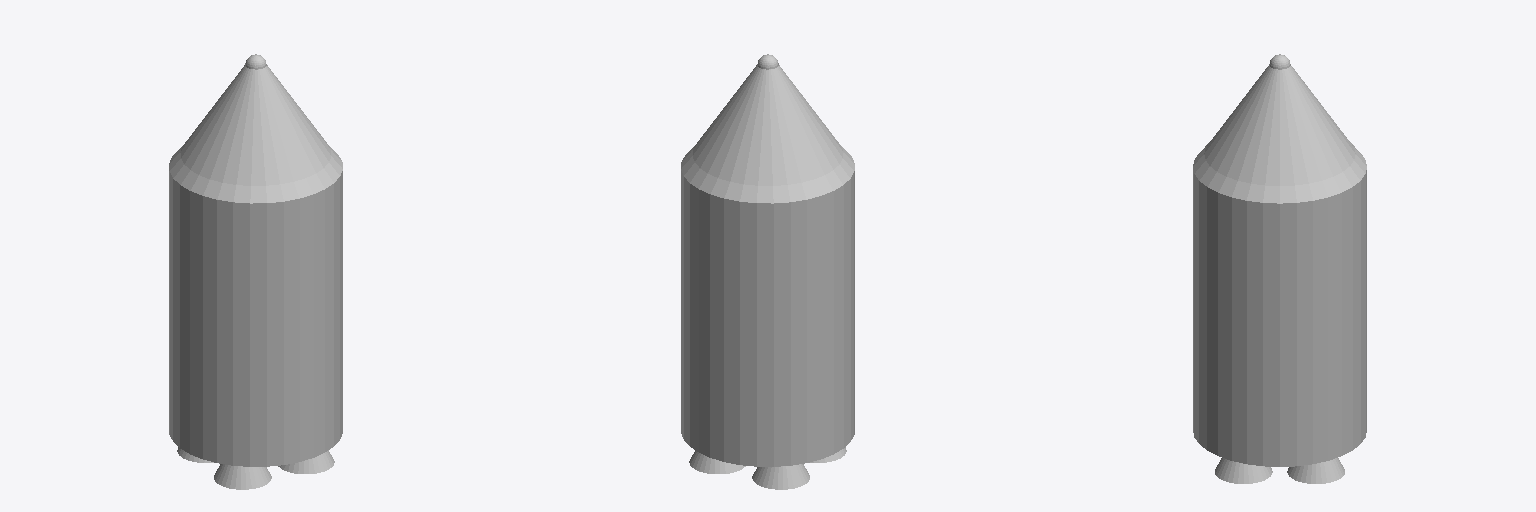
Rendered from standing_rocket.obj.
3 renders of one model, left to right at view 1: azimuth 30°, elevation 25°; view 2: azimuth 150°, elevation 25°; view 3: azimuth 270°, elevation 25°, orthographic.
Parts seen in each view (by area): view 1: Cylinder; view 2: Cylinder; view 3: Cylinder.
Boxes of the visible parts, x1=… form: Cylinder: x1=169, y1=54, x2=342, y2=489; Cylinder: x1=681, y1=54, x2=854, y2=489; Cylinder: x1=1193, y1=54, x2=1366, y2=483.
Bounding box in the file's own units: 6 × 15.23 × 6.